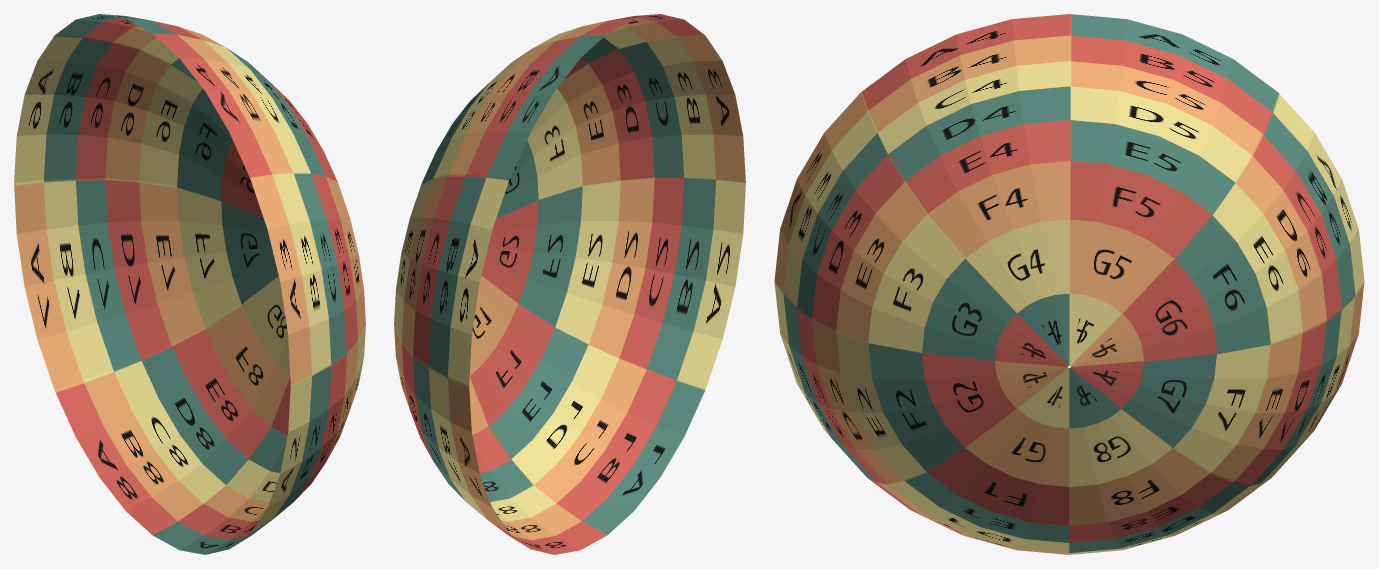
Rendered from cap.fbx.
The picture shows the model from 3 angles, left to right: view 1: azimuth 30°, elevation 25°; view 2: azimuth 150°, elevation 25°; view 3: azimuth 270°, elevation 25°; orthographic projection. The views are drawn at different scales.
Parts seen in each view (by area): view 1: Cylinder; view 2: Cylinder; view 3: Cylinder.
Part boxes in pixels (left/top/right/bottom): Cylinder: left=14, top=14, right=365, bottom=554; Cylinder: left=394, top=14, right=745, bottom=554; Cylinder: left=774, top=14, right=1364, bottom=554.
Bounding box in the file's own units: 91.91 × 268 × 268.
